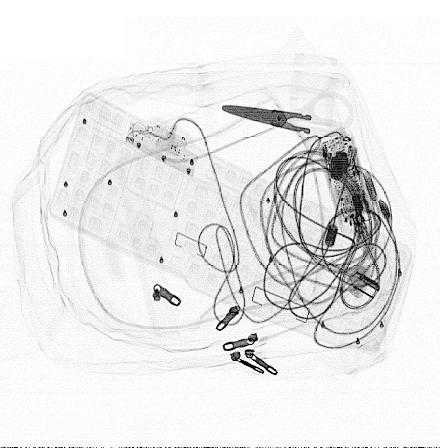Scissors: (221, 88, 355, 172)
